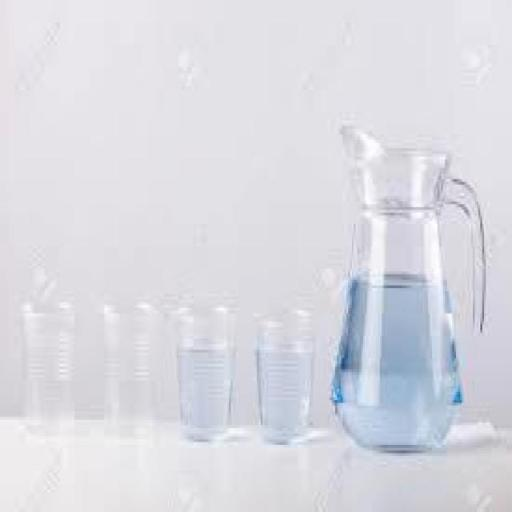glass: (324, 132, 506, 504), (176, 304, 238, 440), (102, 300, 162, 438), (257, 310, 316, 441), (22, 301, 77, 435)
